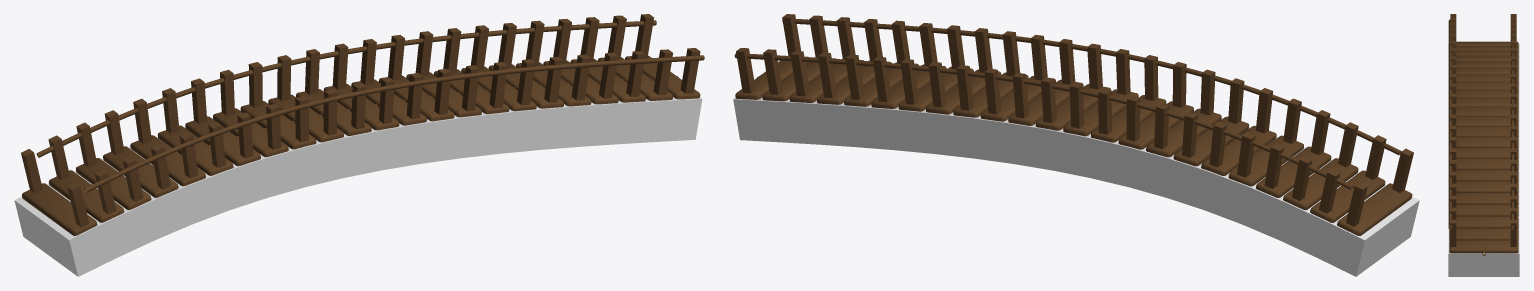
Rendered from Bridge_long.glb.
3 renders of one model, left to right at view 1: azimuth 30°, elevation 25°; view 2: azimuth 150°, elevation 25°; view 3: azimuth 270°, elevation 25°, orthographic. The views are drawn at different scales.
Parts seen in each view (by area): view 1: Cube, Plane, NurbsPath.002, NurbsPath.001; view 2: Cube, Plane, NurbsPath.001, NurbsPath.002; view 3: Cube, Plane, NurbsPath.002, NurbsPath.001.
Part boxes in pixels (x1,y1,x2,y2): Cube: (21,14,700,235); Plane: (14,86,702,276); NurbsPath.002: (84,55,704,192); NurbsPath.001: (36,20,656,157); Cube: (735,14,1413,235); Plane: (733,97,1419,276); NurbsPath.001: (734,53,1353,190); NurbsPath.002: (782,19,1401,155); Cube: (1449,14,1518,253); Plane: (1448,44,1519,276); NurbsPath.002: (1448,19,1451,230); NurbsPath.001: (1511,27,1514,230).
Size of the model in its own units: 9.11 by 1.83 by 1.36.
